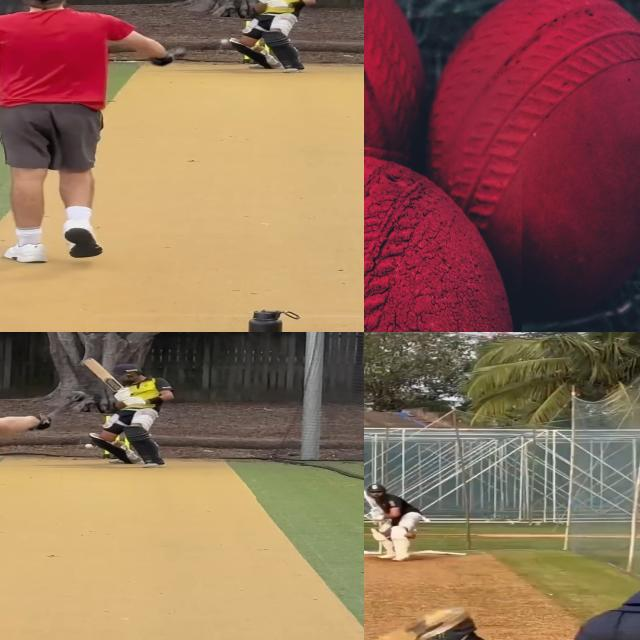Cricket ball: (364, 140, 521, 332), (219, 37, 231, 46), (403, 532, 417, 539), (83, 443, 96, 449)
